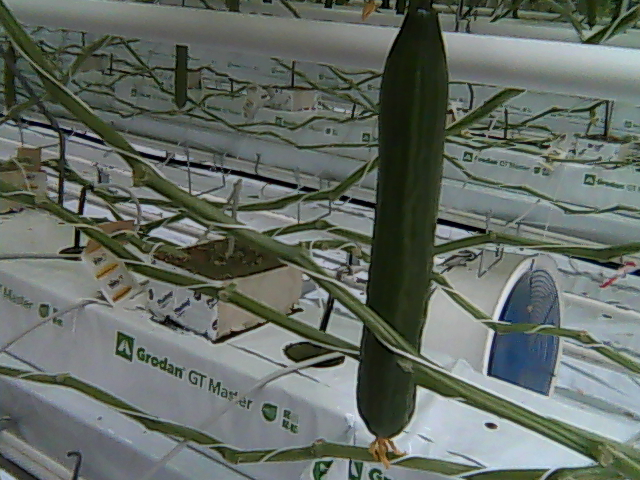concombre: (355, 1, 452, 471)
